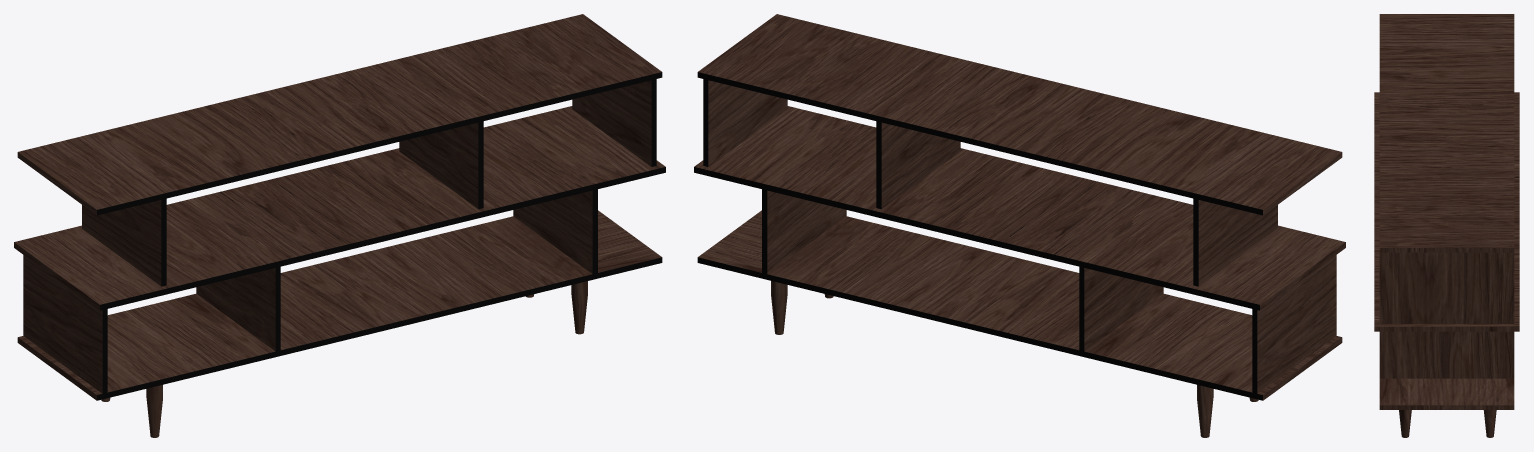
The model's file is tvstand.glb.
3 renders of one model, left to right at view 1: azimuth 30°, elevation 25°; view 2: azimuth 150°, elevation 25°; view 3: azimuth 270°, elevation 25°, orthographic. The views are drawn at different scales.
Visible parts, largest first — view 1: S_tvstand_A_EHH_01; view 2: S_tvstand_A_EHH_01; view 3: S_tvstand_A_EHH_01.
Part boxes in pixels (x1,y1,x2,y2): S_tvstand_A_EHH_01: [14, 14, 665, 437]; S_tvstand_A_EHH_01: [694, 14, 1345, 437]; S_tvstand_A_EHH_01: [1374, 14, 1519, 437].
Size of the model in its own units: 1.42 by 0.6104 by 0.3724.
Materials: 6 (3 with a texture image).
